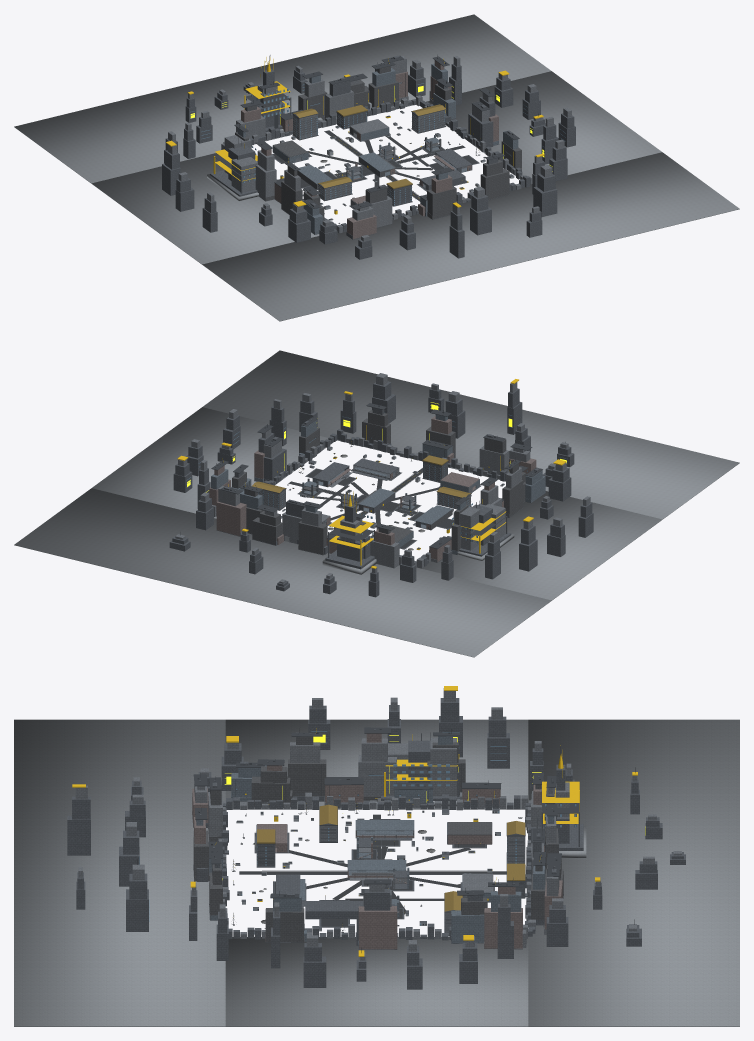
File: okujou-lod0.glb
The picture shows the model from 3 angles, top to bottom: view 1: azimuth 30°, elevation 25°; view 2: azimuth 150°, elevation 25°; view 3: azimuth 270°, elevation 25°; orthographic projection. The views are drawn at different scales.
Parts seen in each view (by area): view 1: HB_okujou_LOD0_terrain, HB_okujou_LOD0_wall_alt, HB_okujou_LOD0_wall, HB_okujou_LOD0_wall_weathered, HB_okujou_LOD0_trim, HB_okujou_LOD0_wall_cool, HB_okujou_LOD0_wall_warm, HB_okujou_LOD0_road, HB_okujou_LOD0_LANDMARK_1_wall, HB_okujou_LOD0_roof, HB_okujou_LOD0_LANDMARK_1_wall_alt, HB_okujou_LOD0_glass; view 2: HB_okujou_LOD0_terrain, HB_okujou_LOD0_wall_alt, HB_okujou_LOD0_wall, HB_okujou_LOD0_wall_weathered, HB_okujou_LOD0_wall_cool, HB_okujou_LOD0_wall_warm, HB_okujou_LOD0_trim, HB_okujou_LOD0_road, HB_okujou_LOD0_LANDMARK_0_wall_alt, HB_okujou_LOD0_LANDMARK_1_wall, HB_okujou_LOD0_LANDMARK_0_accent, HB_okujou_LOD0_LANDMARK_1_wall_alt (+1 smaller); view 3: HB_okujou_LOD0_terrain, HB_okujou_LOD0_wall_alt, HB_okujou_LOD0_wall, HB_okujou_LOD0_wall_weathered, HB_okujou_LOD0_wall_warm, HB_okujou_LOD0_trim, HB_okujou_LOD0_wall_cool, HB_okujou_LOD0_road, HB_okujou_LOD0_LANDMARK_1_wall, HB_okujou_LOD0_roof, HB_okujou_LOD0_LANDMARK_0_wall_alt, HB_okujou_LOD0_LANDMARK_1_wall_alt (+3 smaller).
Part boxes in pixels (x1,y1,x2,y2): HB_okujou_LOD0_terrain: (14,14,739,321); HB_okujou_LOD0_wall_alt: (162,55,575,259); HB_okujou_LOD0_wall: (167,56,571,241); HB_okujou_LOD0_wall_weathered: (235,66,521,220); HB_okujou_LOD0_trim: (234,54,538,223); HB_okujou_LOD0_wall_cool: (237,63,518,234); HB_okujou_LOD0_wall_warm: (241,60,521,239); HB_okujou_LOD0_road: (273,130,479,223); HB_okujou_LOD0_LANDMARK_1_wall: (224,135,257,192); HB_okujou_LOD0_roof: (293,104,445,188); HB_okujou_LOD0_LANDMARK_1_wall_alt: (210,146,257,196); HB_okujou_LOD0_glass: (190,82,565,205); HB_okujou_LOD0_terrain: (14,350,739,657); HB_okujou_LOD0_wall_alt: (169,381,593,597); HB_okujou_LOD0_wall: (175,373,590,583); HB_okujou_LOD0_wall_weathered: (232,410,526,554); HB_okujou_LOD0_wall_cool: (211,414,545,554); HB_okujou_LOD0_wall_warm: (209,416,536,562); HB_okujou_LOD0_trim: (180,403,565,548); HB_okujou_LOD0_road: (288,446,480,548); HB_okujou_LOD0_LANDMARK_0_wall_alt: (325,503,374,569); HB_okujou_LOD0_LANDMARK_1_wall: (453,504,505,550); HB_okujou_LOD0_LANDMARK_0_accent: (329,491,373,565); HB_okujou_LOD0_LANDMARK_1_wall_alt: (459,504,511,556); HB_okujou_LOD0_terrain: (14,719,739,1026); HB_okujou_LOD0_wall_alt: (67,698,685,989); HB_okujou_LOD0_wall: (75,688,681,960); HB_okujou_LOD0_wall_weathered: (193,736,563,942); HB_okujou_LOD0_wall_warm: (192,733,562,949); HB_okujou_LOD0_trim: (137,727,635,952); HB_okujou_LOD0_wall_cool: (196,736,554,948); HB_okujou_LOD0_road: (232,812,521,932); HB_okujou_LOD0_LANDMARK_1_wall: (388,738,456,796); HB_okujou_LOD0_roof: (257,804,525,911); HB_okujou_LOD0_LANDMARK_0_wall_alt: (538,764,583,850); HB_okujou_LOD0_LANDMARK_1_wall_alt: (381,740,459,800).
Bounding box in the file's own units: 720 × 111 × 720.
Materials: 14 (12 with a texture image).
